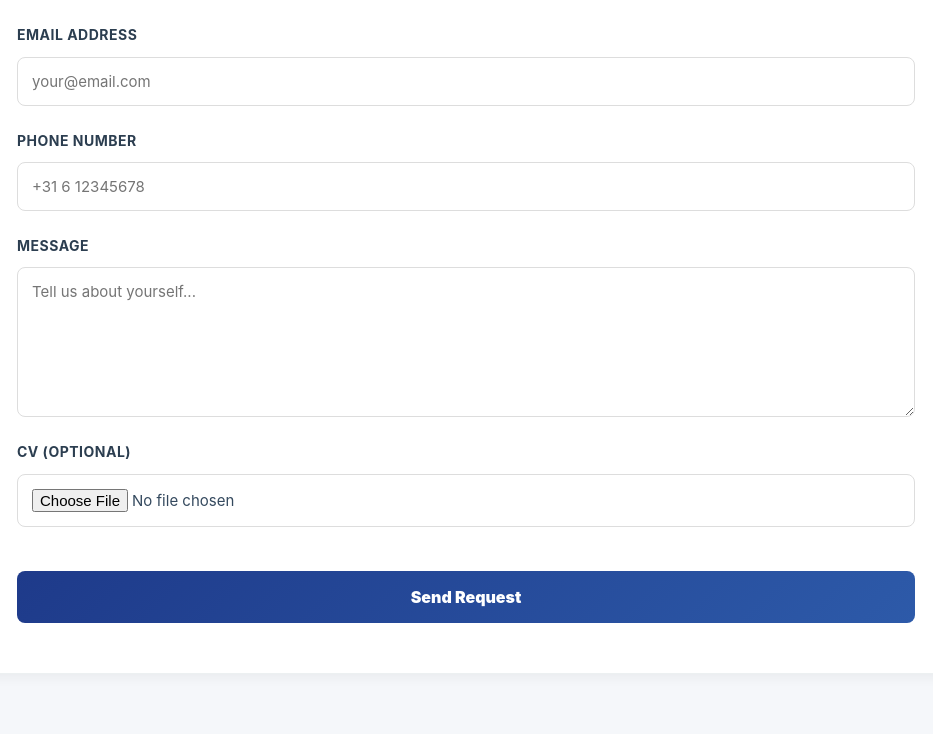
Test: Contact form › shows required errors when submitting an empty form
(page scrolled)
Click the button "Send Request": (466, 597) [17,571,915,623]
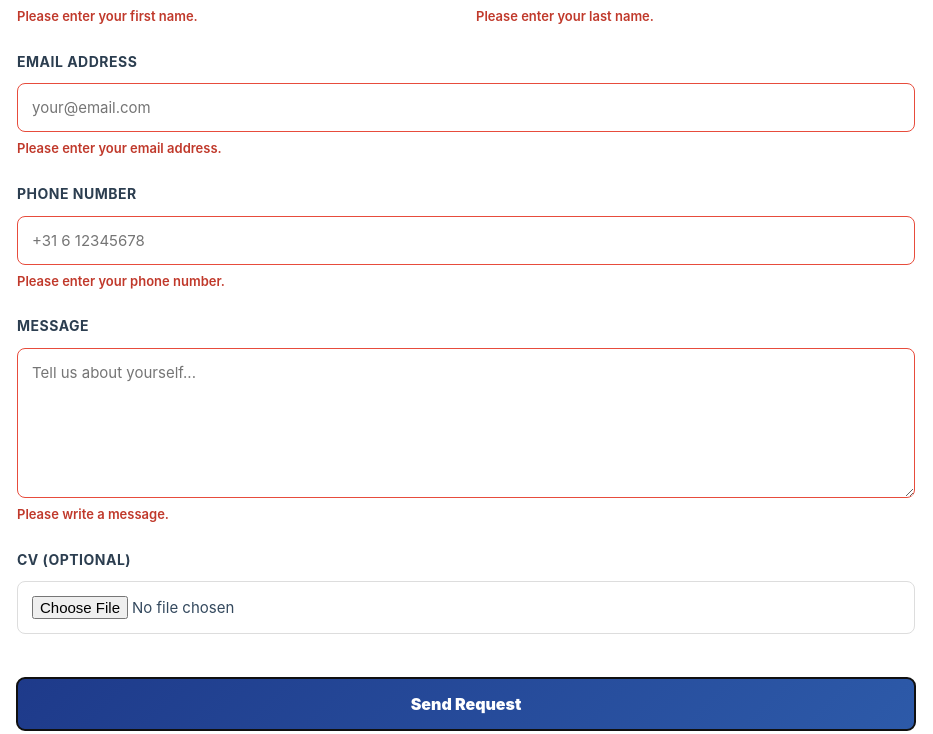
Check: the text "Please enter your first name." is shown, box [17,8,198,24]
Check: the text "Please enter your last name." is shown, box [476,8,654,24]
Check: the text "Please enter your email address." is shown, box [17,140,222,156]
